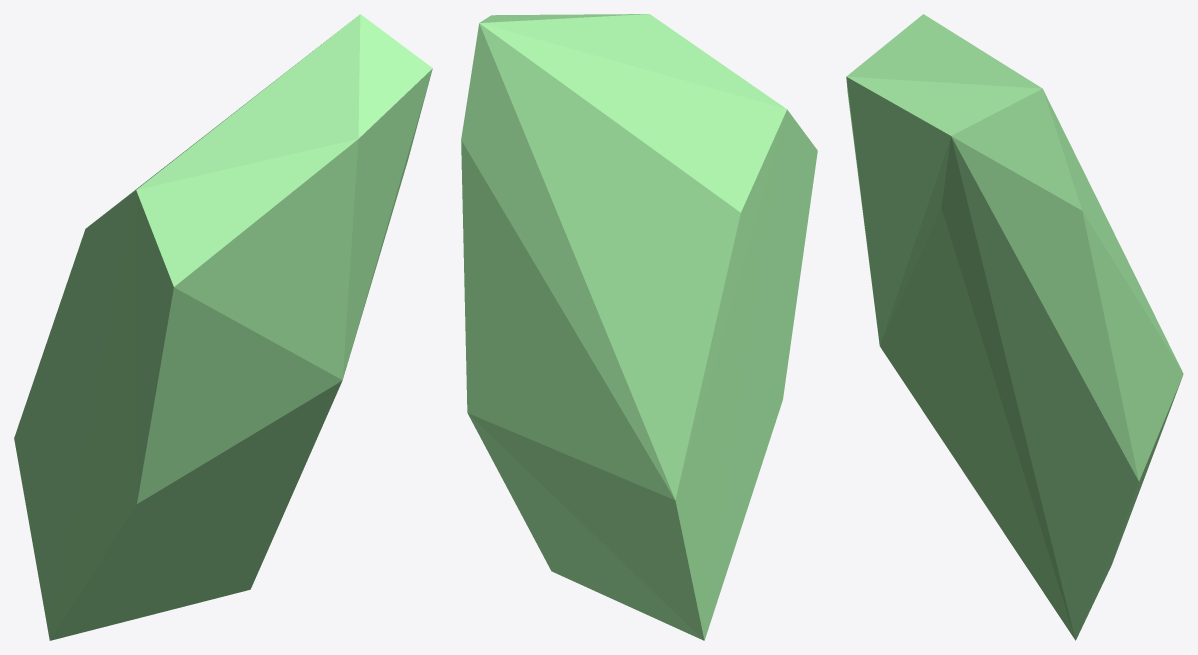
The model's file is linkhou_LR4_R560_link7_respondable_coll_29.dae.
The picture shows the model from 3 angles, left to right: view 1: azimuth 30°, elevation 25°; view 2: azimuth 150°, elevation 25°; view 3: azimuth 270°, elevation 25°; orthographic projection. The views are drawn at different scales.
Visible parts, largest first — view 1: Node_00000209DB3A9E60; view 2: Node_00000209DB3A9E60; view 3: Node_00000209DB3A9E60.
Part boxes in pixels (<box>): Node_00000209DB3A9E60: <box>14,14,432,640</box>; Node_00000209DB3A9E60: <box>461,14,817,640</box>; Node_00000209DB3A9E60: <box>846,14,1183,640</box>.
Size of the model in its own units: 0.00999 by 0.018 by 0.00883.
